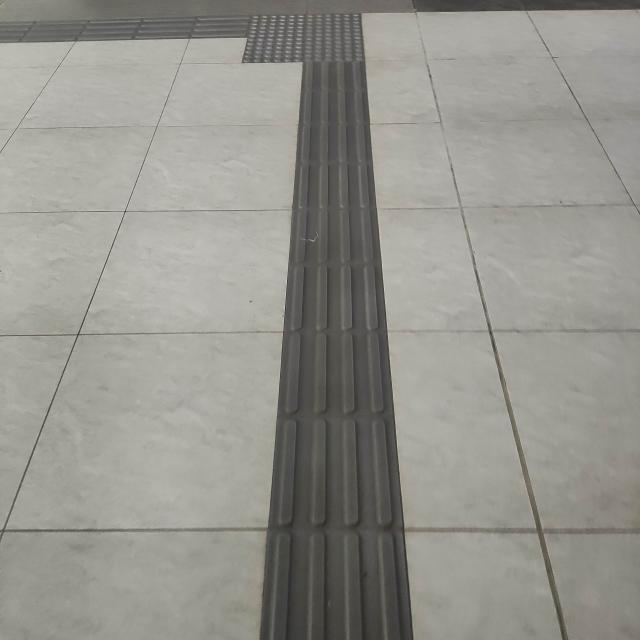kiri: (151, 8, 409, 82)
